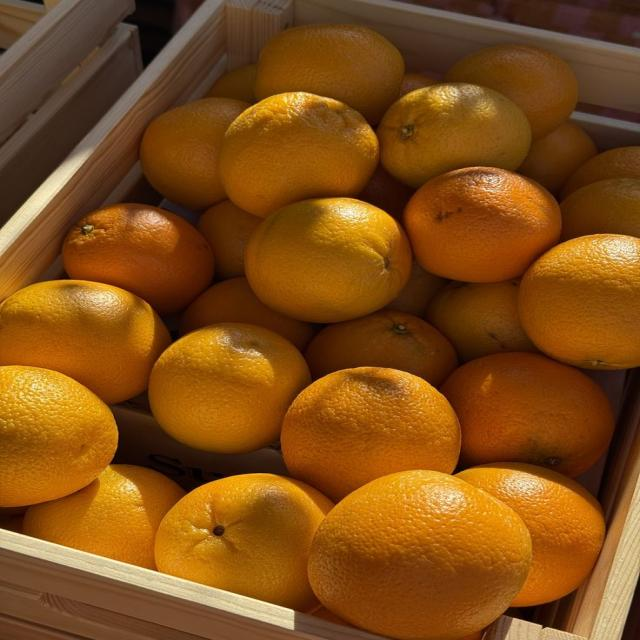orange: (309, 470, 531, 639), (156, 473, 333, 611), (281, 367, 459, 501), (440, 353, 614, 476), (0, 280, 171, 404), (457, 463, 605, 606), (148, 323, 310, 453), (246, 198, 412, 322), (219, 92, 379, 217), (403, 167, 560, 282), (23, 464, 186, 568), (62, 203, 213, 315), (0, 366, 118, 506), (518, 234, 639, 369), (377, 83, 531, 188), (255, 23, 404, 124), (445, 44, 578, 139), (140, 98, 249, 210), (304, 309, 458, 386), (180, 278, 318, 350), (425, 279, 538, 362), (517, 120, 597, 195), (197, 200, 262, 280), (560, 177, 639, 240), (560, 146, 639, 199), (385, 261, 448, 317), (358, 164, 414, 219), (206, 64, 256, 104), (399, 72, 440, 97), (312, 606, 353, 626)
